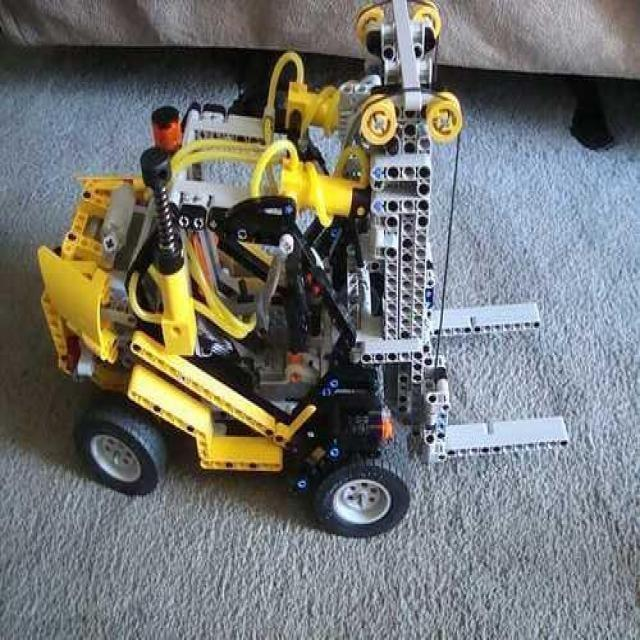forklift: (29, 17, 572, 553)
